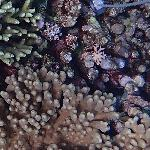dead: (2, 2, 148, 147)
